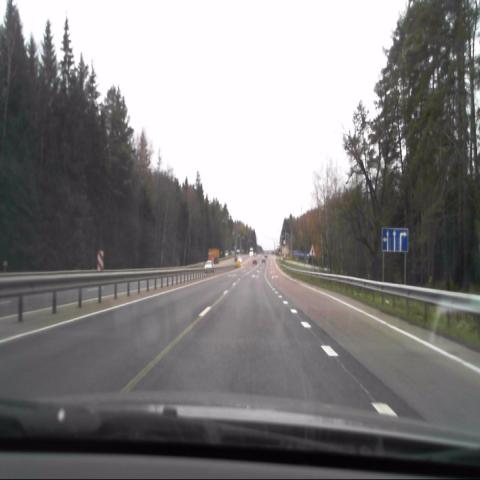2_3: (308, 243, 316, 257)
5_15_1: (381, 226, 409, 252)
